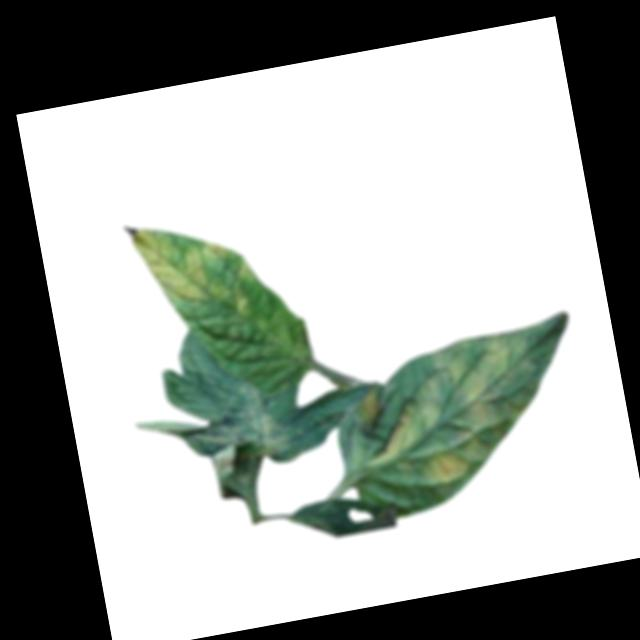Leaf_Mold: (350, 326, 560, 514), (129, 209, 261, 333), (184, 377, 291, 473)
